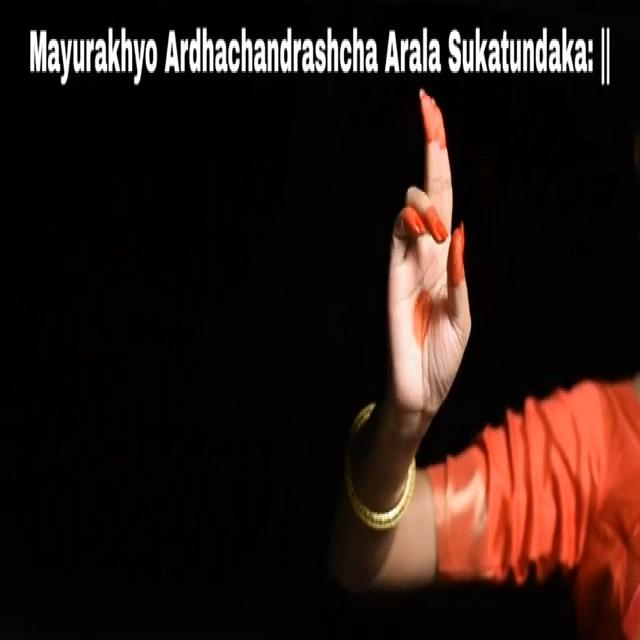Kartarimukha: (374, 84, 489, 427)
bangle: (332, 427, 429, 541)
text: (24, 14, 614, 94)
